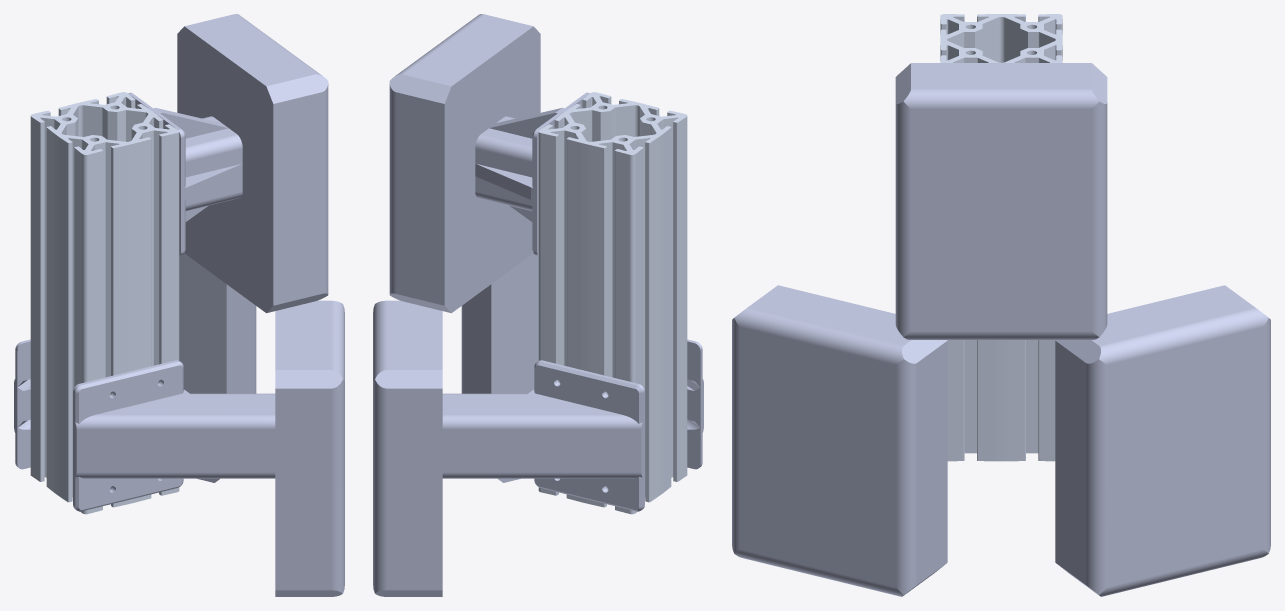
Rendered from iteration_2_front.glb.
3 renders of one model, left to right at view 1: azimuth 30°, elevation 25°; view 2: azimuth 150°, elevation 25°; view 3: azimuth 270°, elevation 25°, orthographic. The views are drawn at different scales.
Parts seen in each view (by area): view 1: 2nd Iteration Foam Mounts, foam-1, foam_mount_side_new-1, foam-2, Mirrorfoam-4, foam_mount_new-2, Mirrorfoam_mount_side_new-3; view 2: 2nd Iteration Foam Mounts, foam-1, Mirrorfoam_mount_side_new-3, Mirrorfoam-4, foam-2, foam_mount_new-2, foam_mount_side_new-1; view 3: foam-1, Mirrorfoam-4, foam-2, 2nd Iteration Foam Mounts.
Part boxes in pixels (box(x1,y1,x2,y2)): 2nd Iteration Foam Mounts: box(30, 92, 179, 514); foam-1: box(177, 14, 328, 313); foam_mount_side_new-1: box(73, 360, 275, 511); foam-2: box(275, 300, 344, 596); Mirrorfoam-4: box(179, 253, 256, 482); foam_mount_new-2: box(128, 92, 242, 255); Mirrorfoam_mount_side_new-3: box(14, 339, 30, 469); 2nd Iteration Foam Mounts: box(538, 92, 687, 514); foam-1: box(389, 14, 540, 313); Mirrorfoam_mount_side_new-3: box(442, 360, 644, 511); Mirrorfoam-4: box(373, 300, 442, 596); foam-2: box(461, 253, 538, 482); foam_mount_new-2: box(475, 92, 589, 255); foam_mount_side_new-1: box(687, 339, 703, 469); foam-1: box(895, 63, 1107, 339); Mirrorfoam-4: box(1055, 285, 1270, 596); foam-2: box(732, 285, 947, 596); 2nd Iteration Foam Mounts: box(940, 14, 1062, 461).
Size of the model in its own units: 0.2104 by 0.36 by 0.3518.
